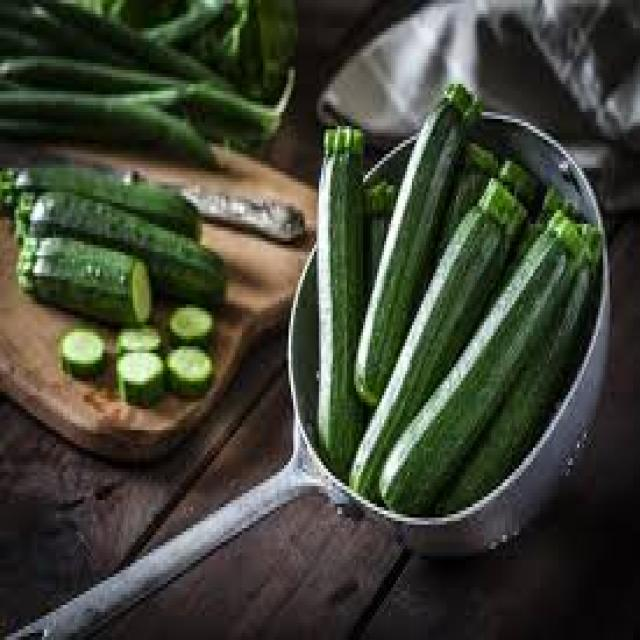Zucchini: (318, 128, 364, 470)
